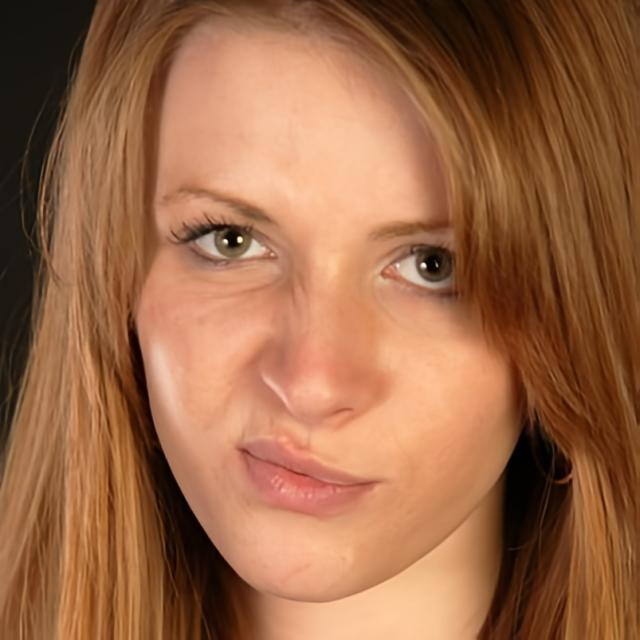content: (128, 0, 532, 605)
